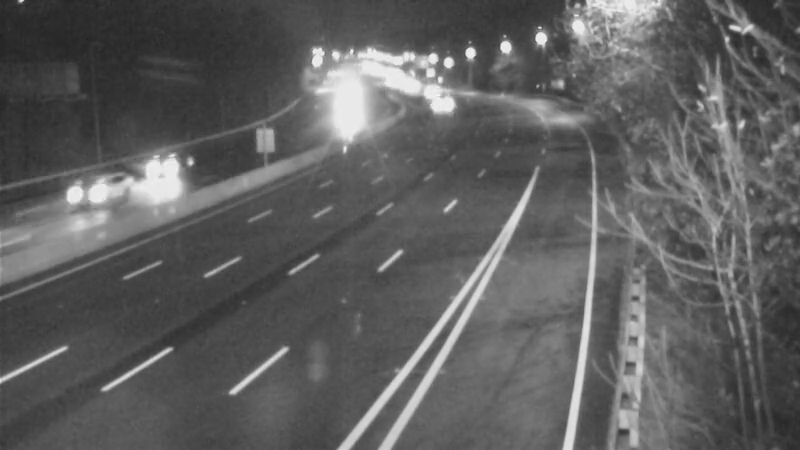vehicle: (46, 161, 126, 241), (125, 125, 205, 205), (408, 65, 458, 115), (420, 79, 470, 129)
